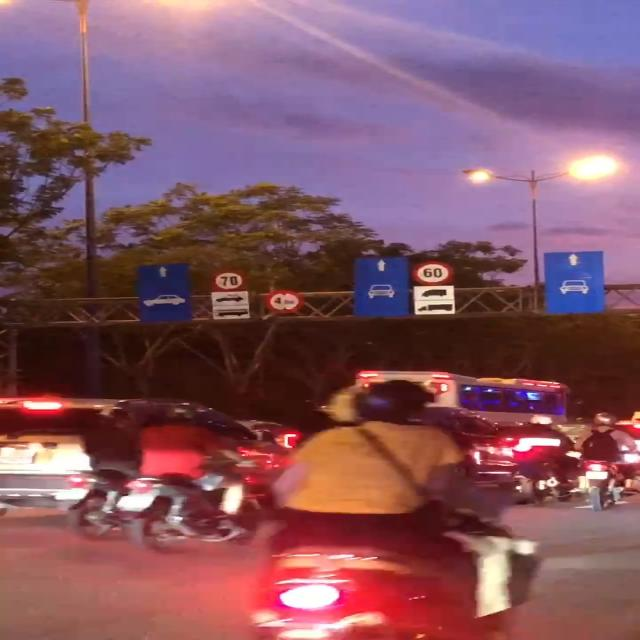Bien bao han che chieu cao: (261, 288, 309, 316)
Bien bao toc do toi da cho phep: (408, 257, 462, 288), (206, 267, 256, 292)
